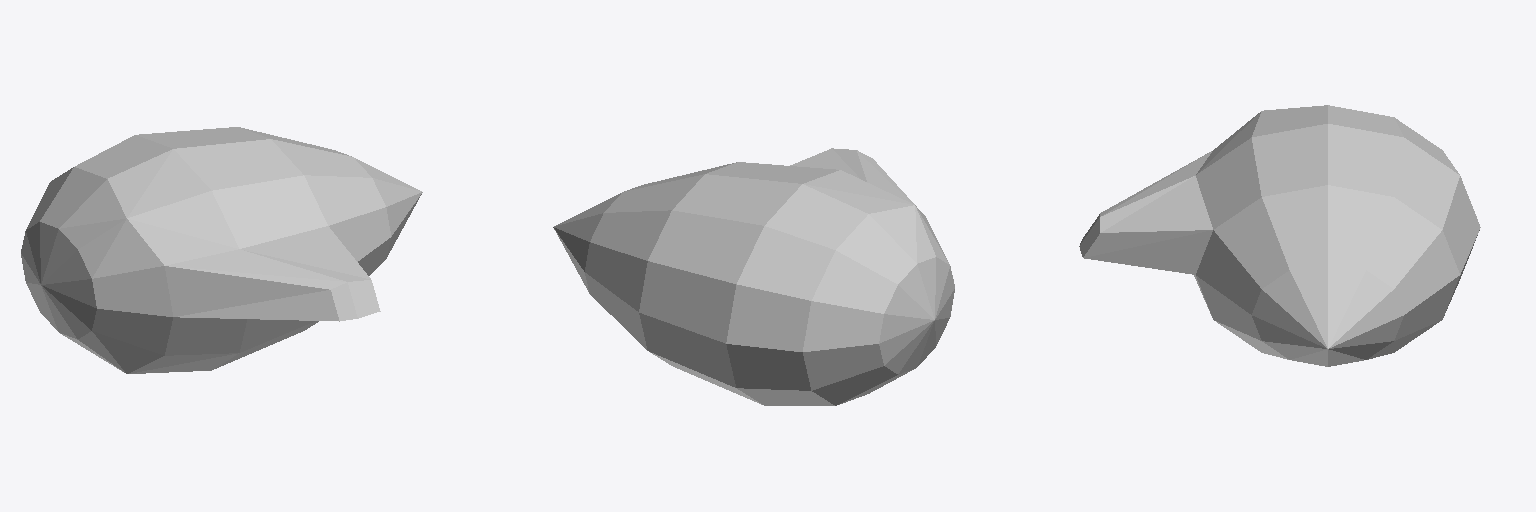
File: Ocarina.obj
3 renders of one model, left to right at view 1: azimuth 30°, elevation 25°; view 2: azimuth 150°, elevation 25°; view 3: azimuth 270°, elevation 25°, orthographic.
Visible parts, largest first — view 1: Converted object 0; view 2: Converted object 0; view 3: Converted object 0.
Boxes of the visible parts, x1=… form: Converted object 0: x1=21, y1=127, x2=422, y2=373; Converted object 0: x1=553, y1=148, x2=954, y2=405; Converted object 0: x1=1079, y1=105, x2=1480, y2=366.
Bounding box in the file's own units: 4.94 × 2.57 × 4.5.